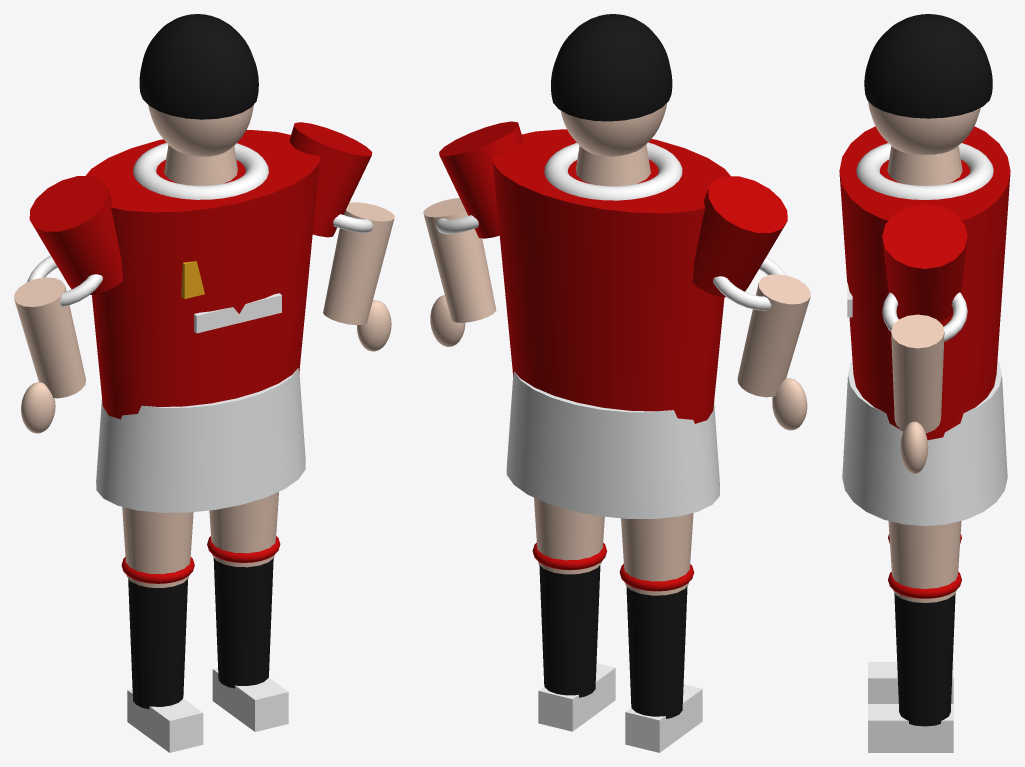
Rendered from meshy_mu_athlete.glb.
The picture shows the model from 3 angles, left to right: view 1: azimuth 30°, elevation 25°; view 2: azimuth 150°, elevation 25°; view 3: azimuth 270°, elevation 25°; orthographic projection.
Parts seen in each view (by area): view 1: Meshy_3D_Athlete_Model; view 2: Meshy_3D_Athlete_Model; view 3: Meshy_3D_Athlete_Model.
Part boxes in pixels (box(x1,y1,x2,y2)): Meshy_3D_Athlete_Model: box(14, 14, 394, 752); Meshy_3D_Athlete_Model: box(423, 14, 810, 752); Meshy_3D_Athlete_Model: box(839, 14, 1010, 752).
Bounding box in the file's own units: 1.22 × 2.18 × 0.48.
